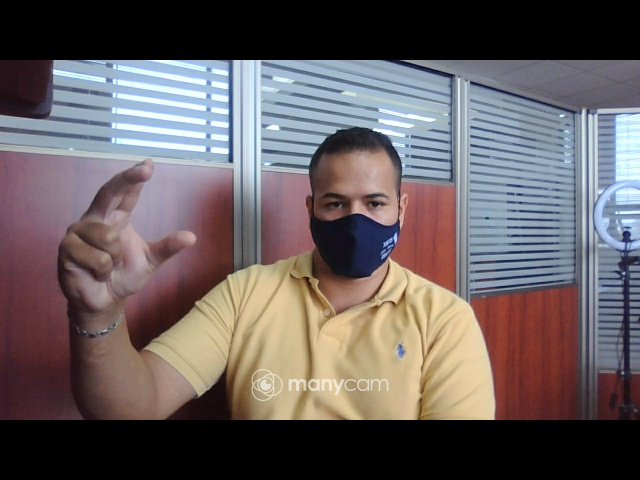No: (42, 159, 202, 316)
